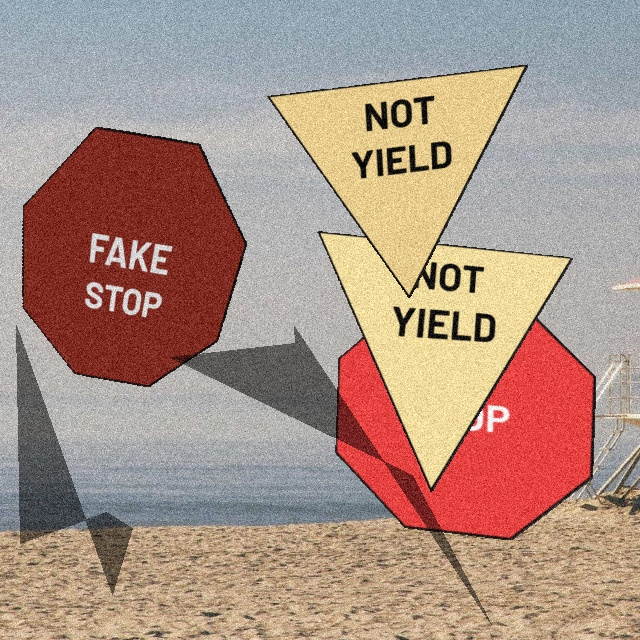FAKE_STOP: (22, 126, 247, 387)
NOT_YIELD: (317, 231, 573, 492), (267, 64, 528, 298)
STOP: (335, 295, 596, 540)
